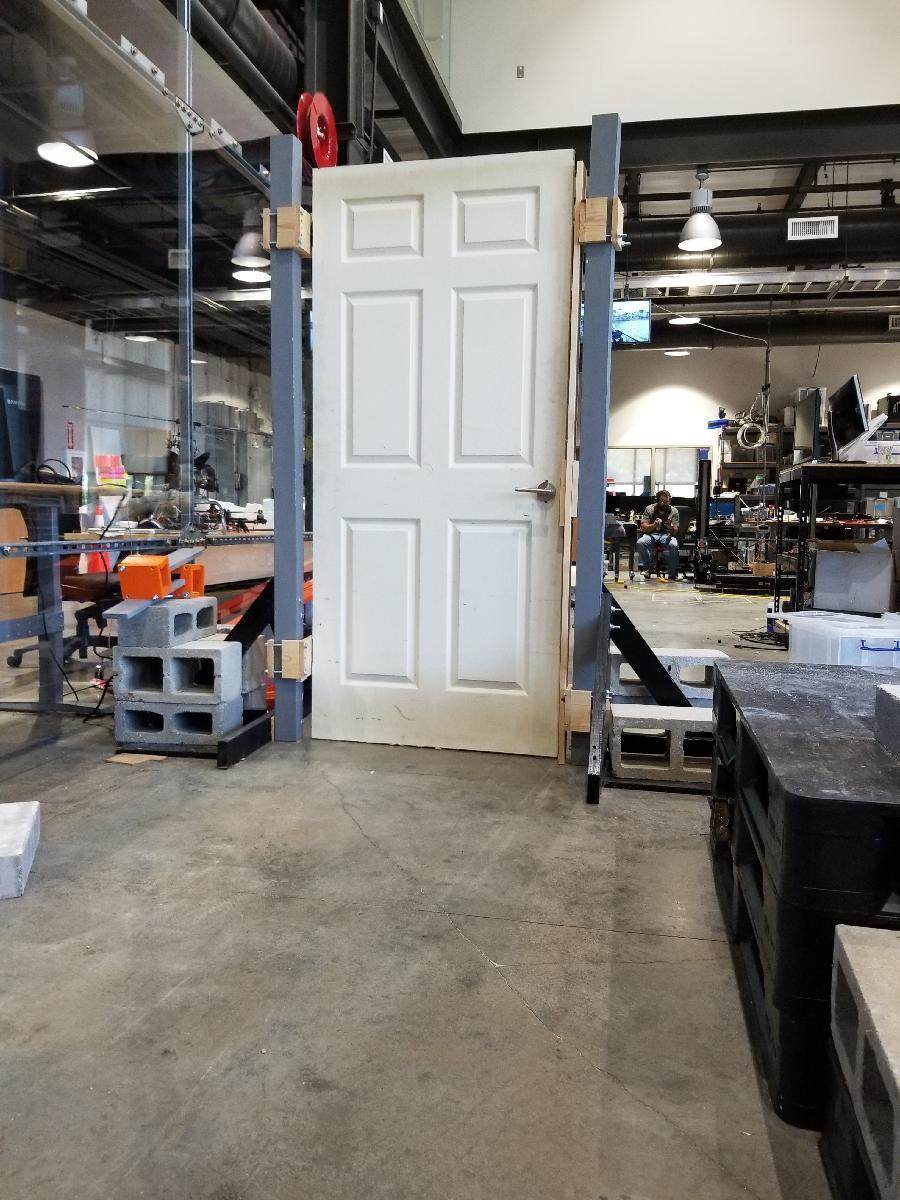door: (316, 163, 566, 753)
handle: (508, 476, 562, 508)
